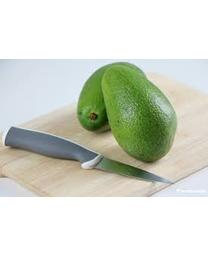avocado: (101, 65, 178, 164), (77, 62, 148, 131)
